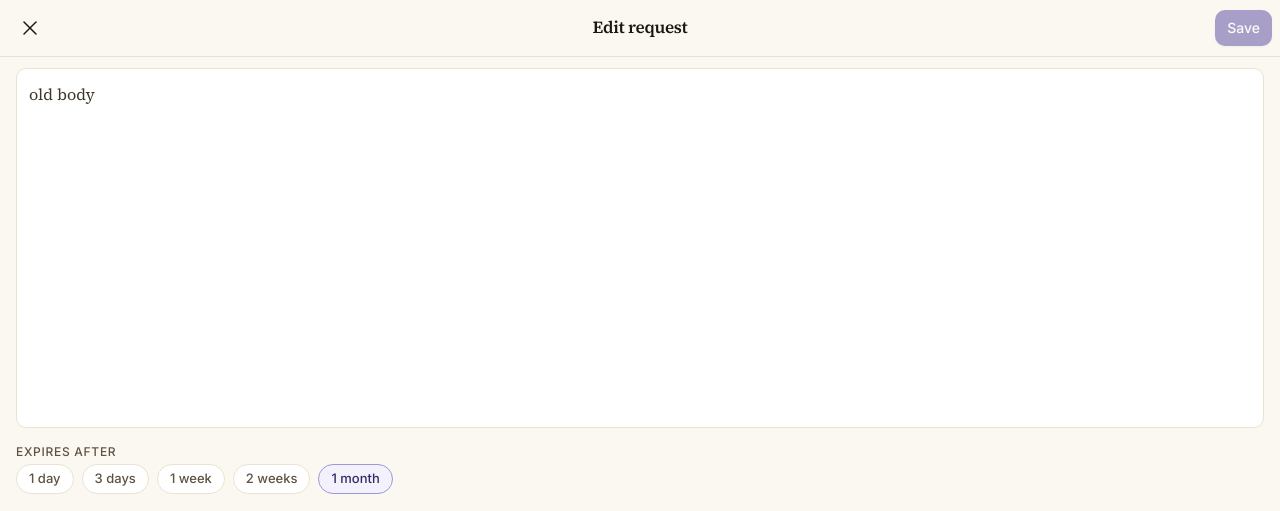
Test case: MobileEditPostPage › Save enables when body changes
In the text box named "body": x=640, y=248 [16, 68, 1264, 428], type "!"
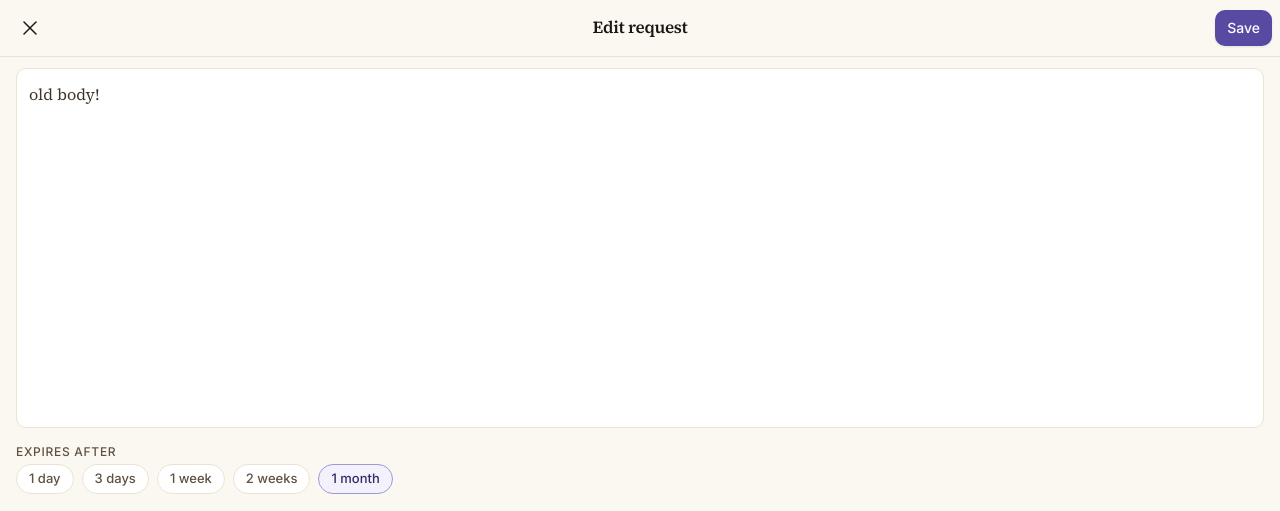
Check: the button "Save" is enabled, box [1215, 10, 1272, 46]
